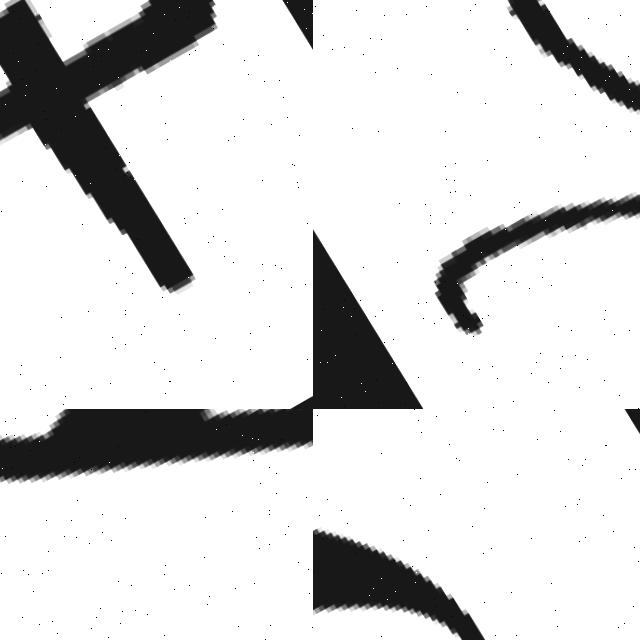D: (313, 409, 640, 640)
Q: (313, 0, 640, 409)
T: (0, 0, 313, 409)
Y: (0, 409, 313, 640)
